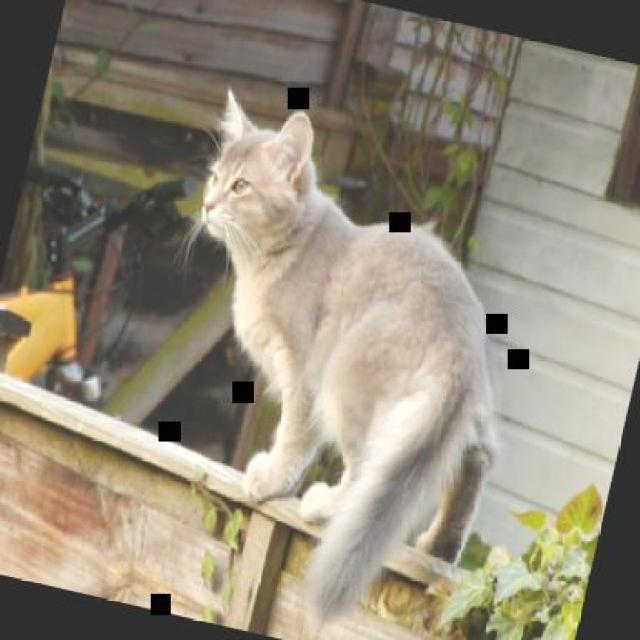cat: (112, 87, 563, 638)
